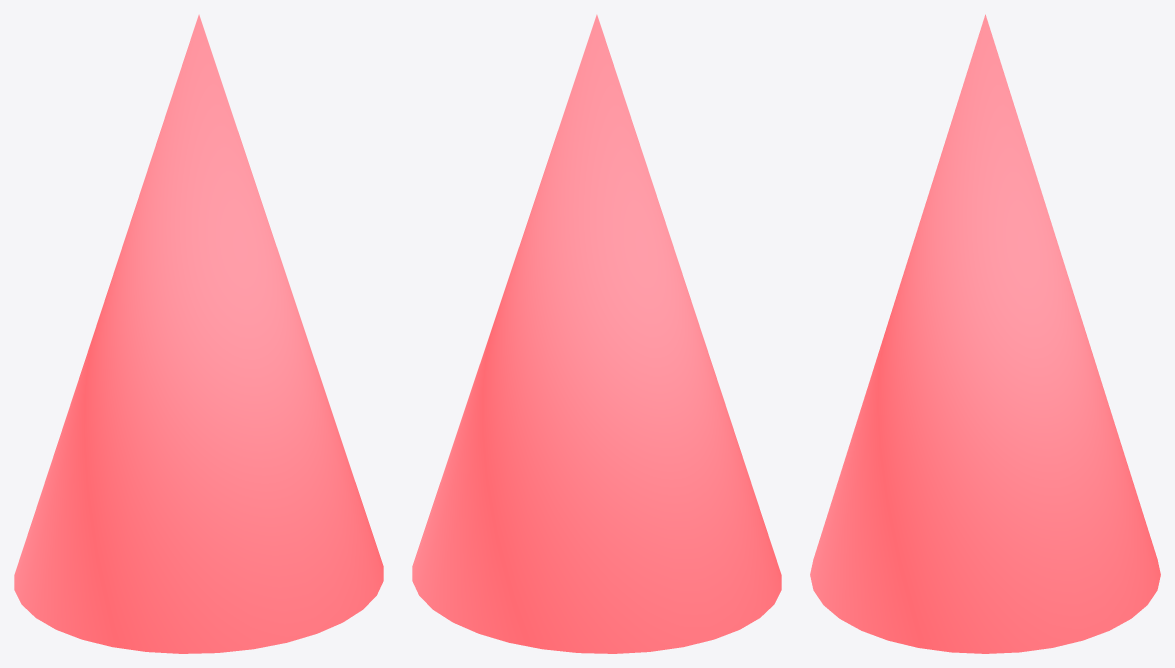
3 views of the same model, side by side, from view 1: azimuth 30°, elevation 25°; view 2: azimuth 150°, elevation 25°; view 3: azimuth 270°, elevation 25° (orthographic).
Visible parts, largest first — view 1: Cone; view 2: Cone; view 3: Cone.
Part boxes in pixels (<box>): Cone: <box>14,14,383,653</box>; Cone: <box>412,14,781,653</box>; Cone: <box>810,14,1160,653</box>.
Size of the model in its own units: 1123 by 1854 by 1051.
